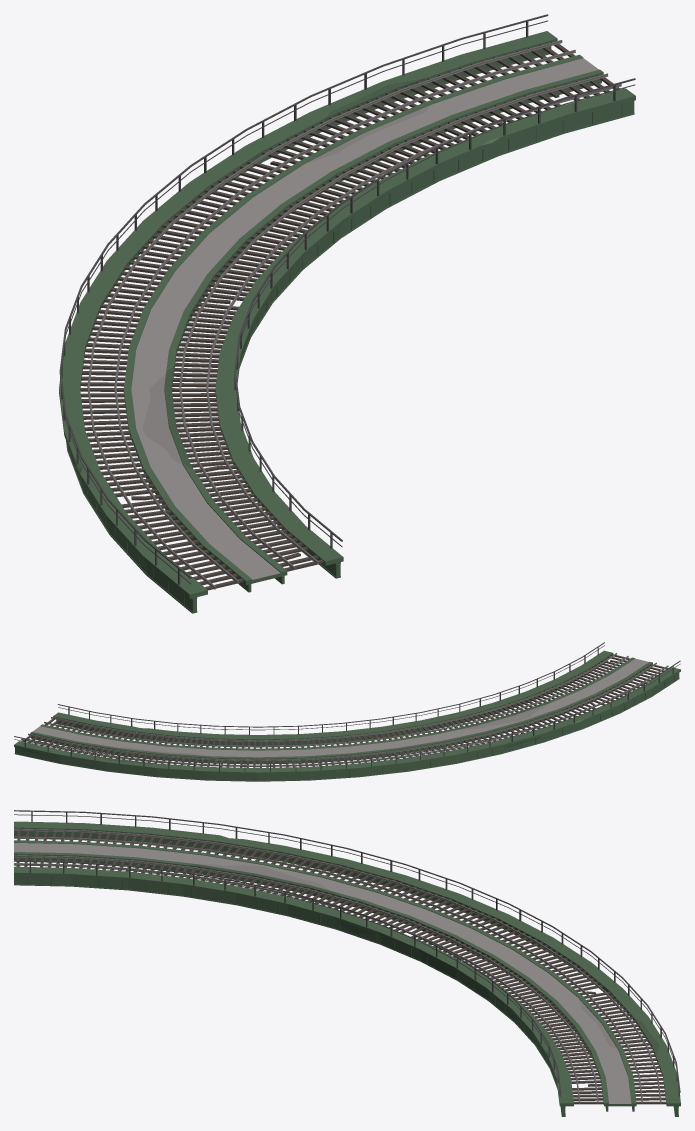
File: SM_Train_Track_Aboveground_Bridge_Steel_Corner_02.fbx
3 views of the same model, one above another, from view 1: azimuth 30°, elevation 25°; view 2: azimuth 150°, elevation 25°; view 3: azimuth 270°, elevation 25° (orthographic). The views are drawn at different scales.
Visible parts, largest first — view 1: SM_Train_Track_Aboveground_Bridge_Steel_Corner_02; view 2: SM_Train_Track_Aboveground_Bridge_Steel_Corner_02; view 3: SM_Train_Track_Aboveground_Bridge_Steel_Corner_02.
Boxes of the visible parts, x1=… form: SM_Train_Track_Aboveground_Bridge_Steel_Corner_02: x1=59, y1=14, x2=635, y2=613; SM_Train_Track_Aboveground_Bridge_Steel_Corner_02: x1=14, y1=642, x2=680, y2=781; SM_Train_Track_Aboveground_Bridge_Steel_Corner_02: x1=14, y1=810, x2=680, y2=1116.
Size of the model in its own units: 6600 by 273 by 6600.
